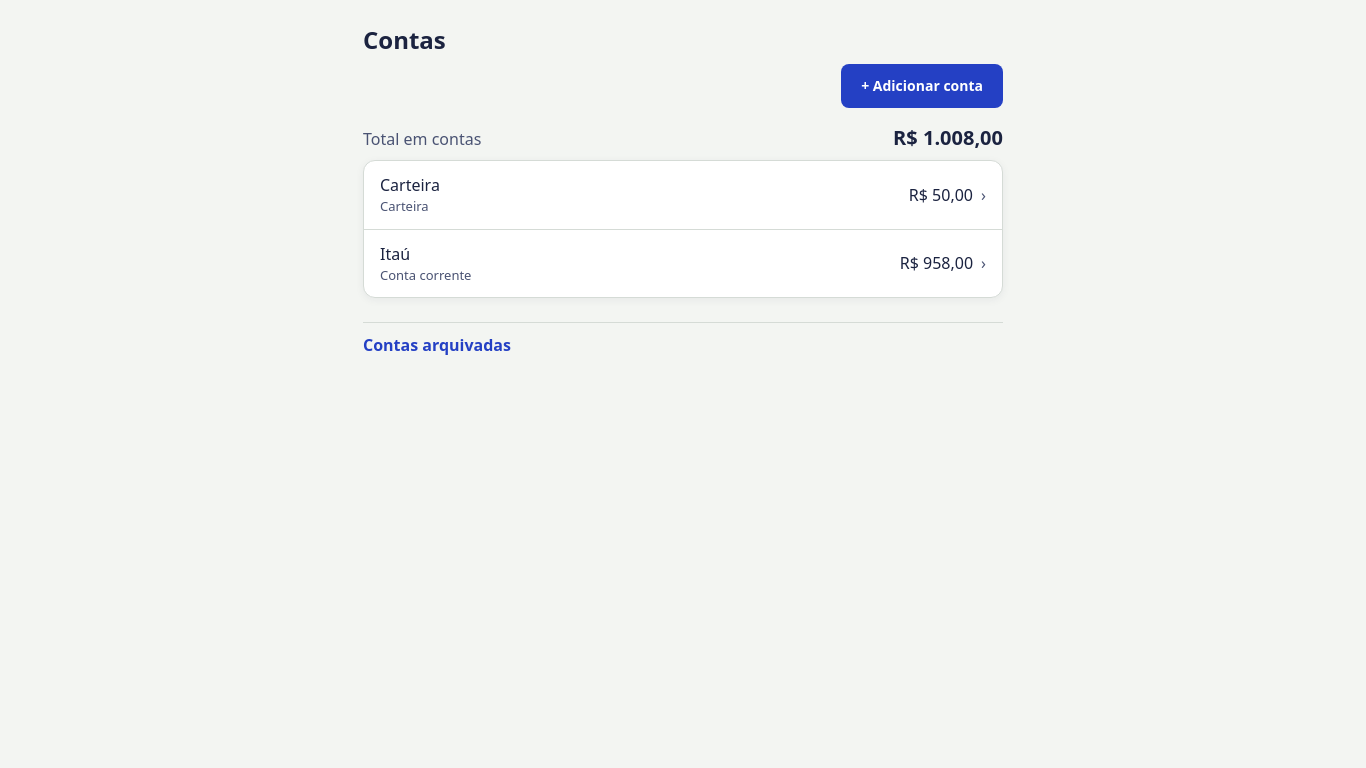
Scenario: archiving asks for confirmation and shows the balance warning
Click the button with aria-label "Opções de Itaú": (395, 254) [364,230,1002,297]
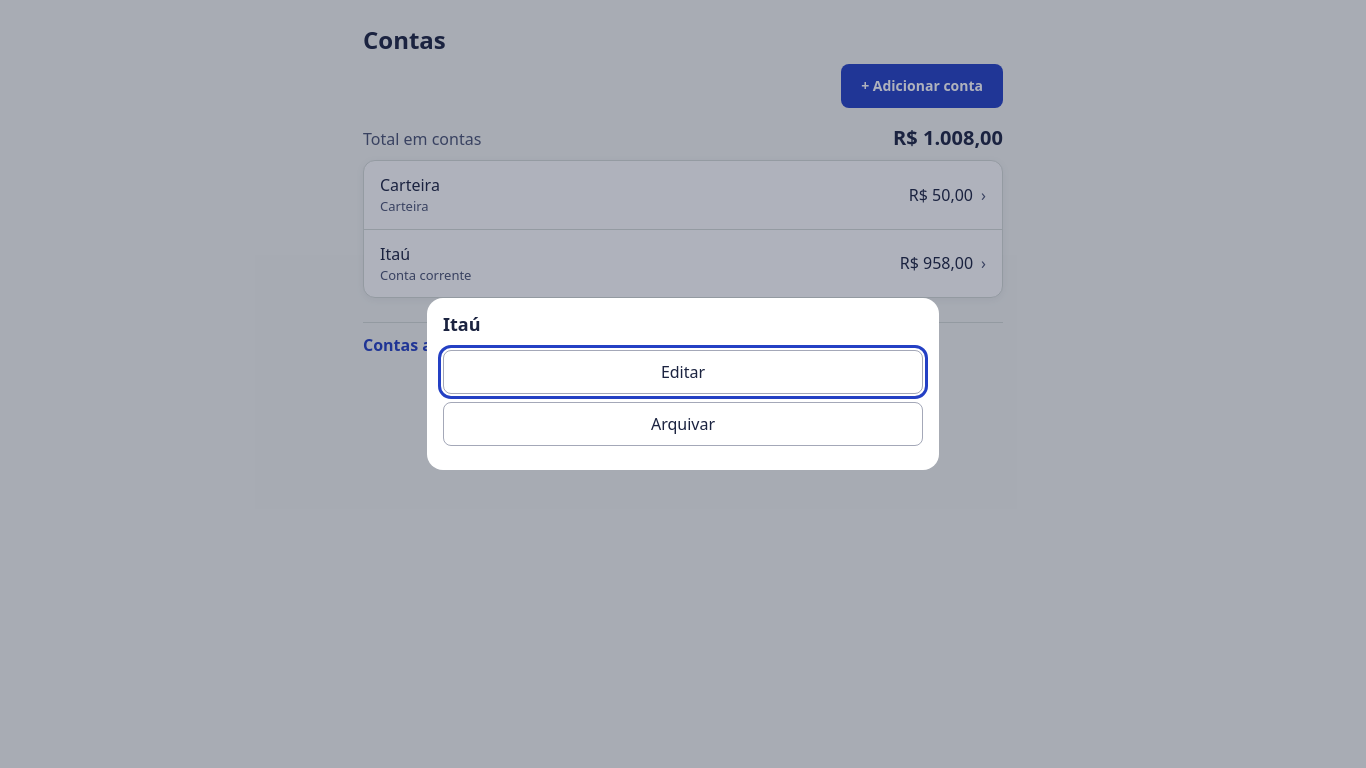
Click the button "Arquivar": (683, 424) [443,402,923,446]
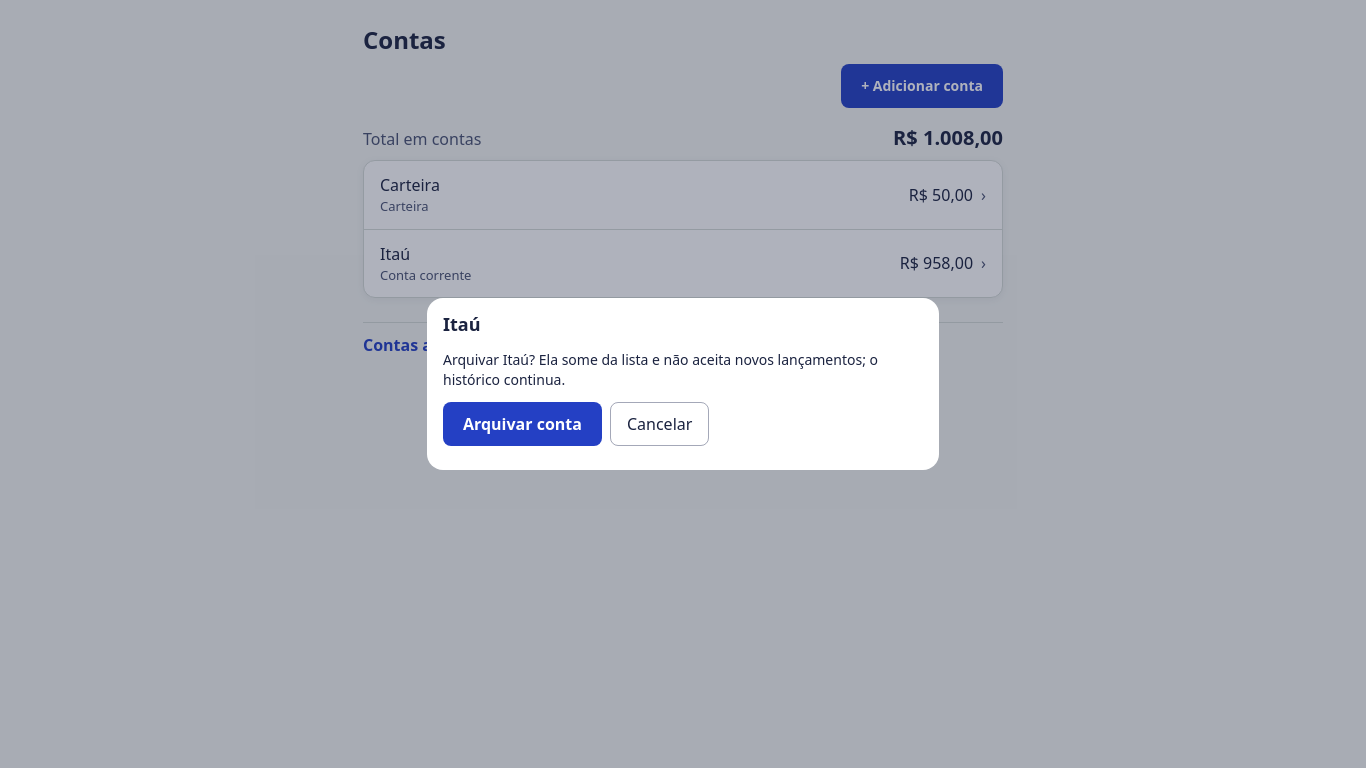
Click the button "Arquivar conta": (522, 424) [443,402,602,446]
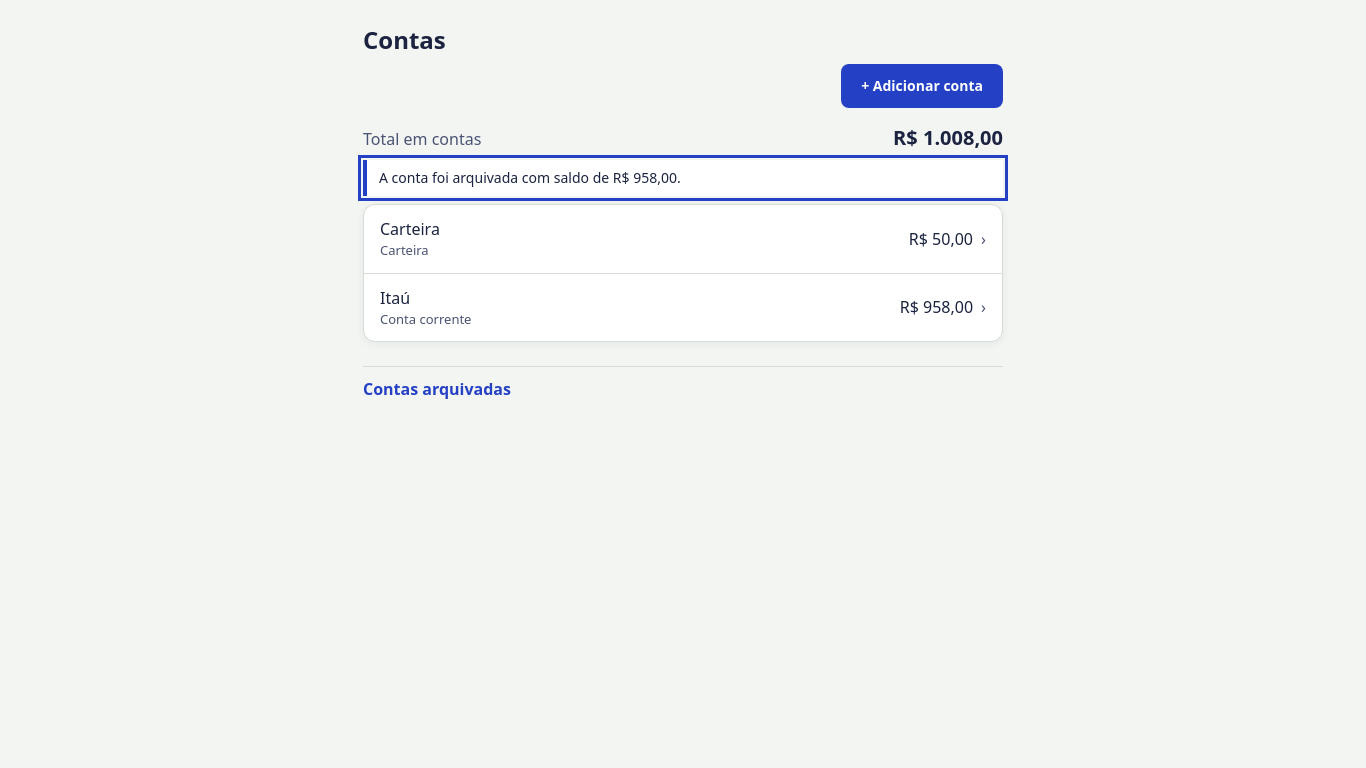
Expected: the message reads "A conta foi arquivada com saldo de R$ 958,00.", [379,168,681,187]
